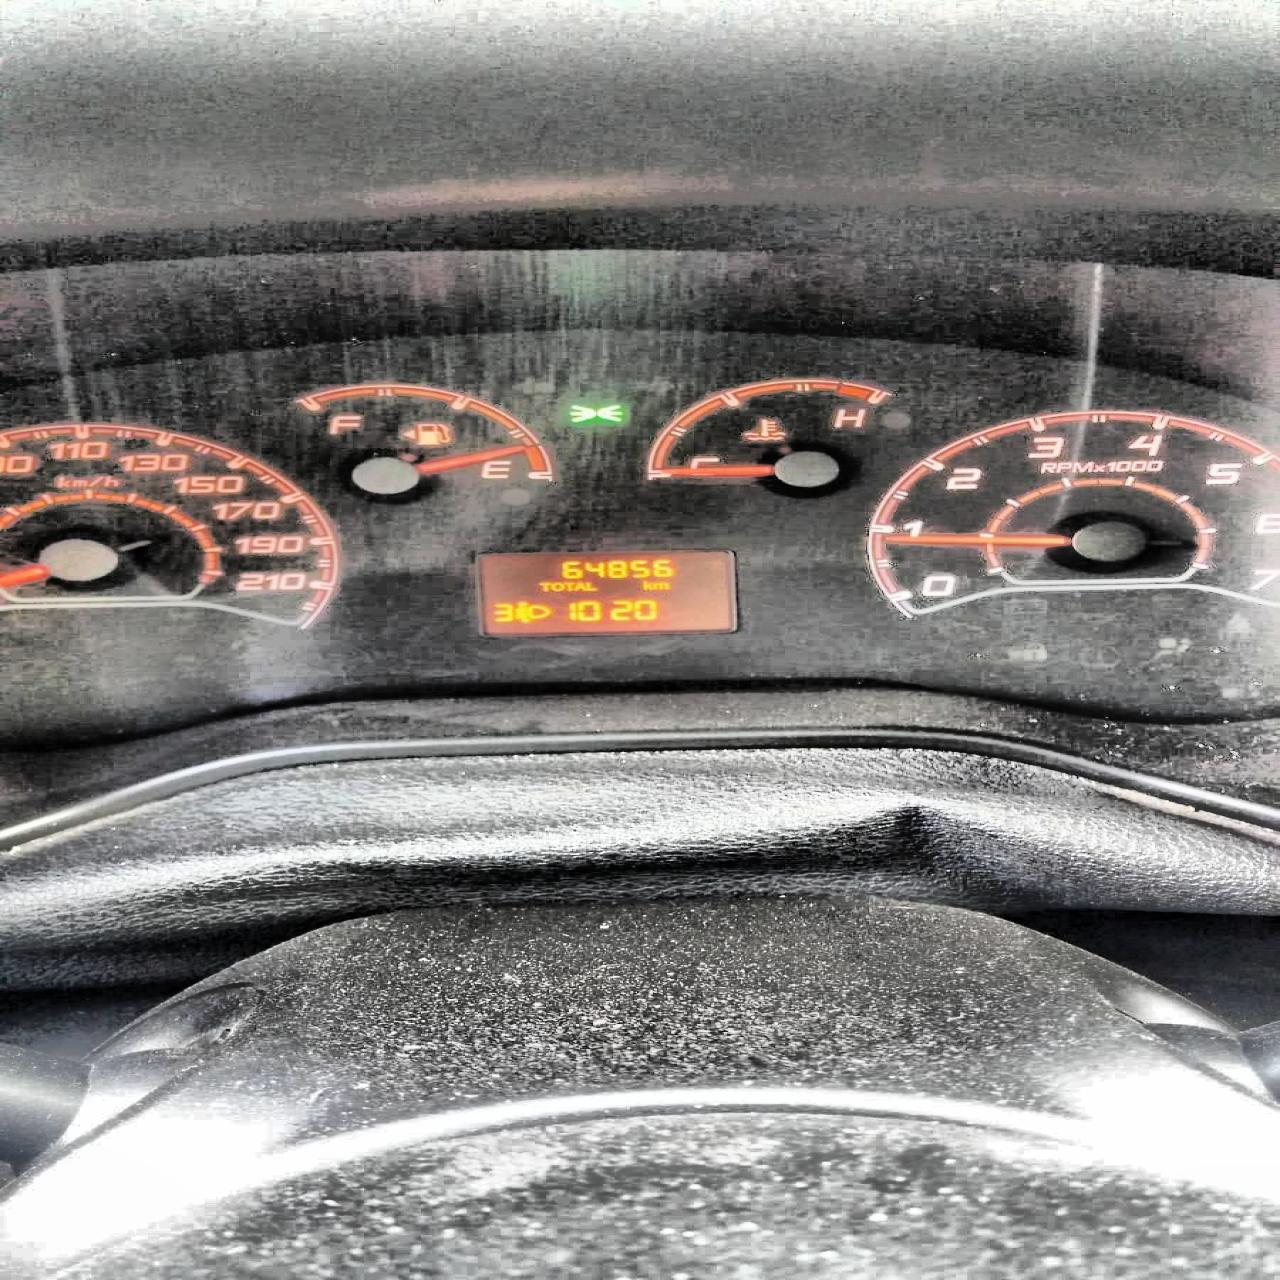0: (633, 598, 658, 620), (578, 600, 600, 621)
1: (566, 601, 576, 620)
2: (610, 600, 633, 620)
3: (490, 602, 513, 621)
4: (584, 561, 605, 577)
5: (628, 560, 651, 577)
6: (651, 559, 673, 577), (560, 560, 581, 578)
8: (606, 560, 627, 578)
X: (653, 580, 670, 590), (572, 580, 586, 591), (585, 580, 598, 591), (551, 581, 565, 591), (538, 581, 550, 592), (641, 580, 653, 590), (564, 581, 574, 591)
odometer: (475, 549, 740, 636)
